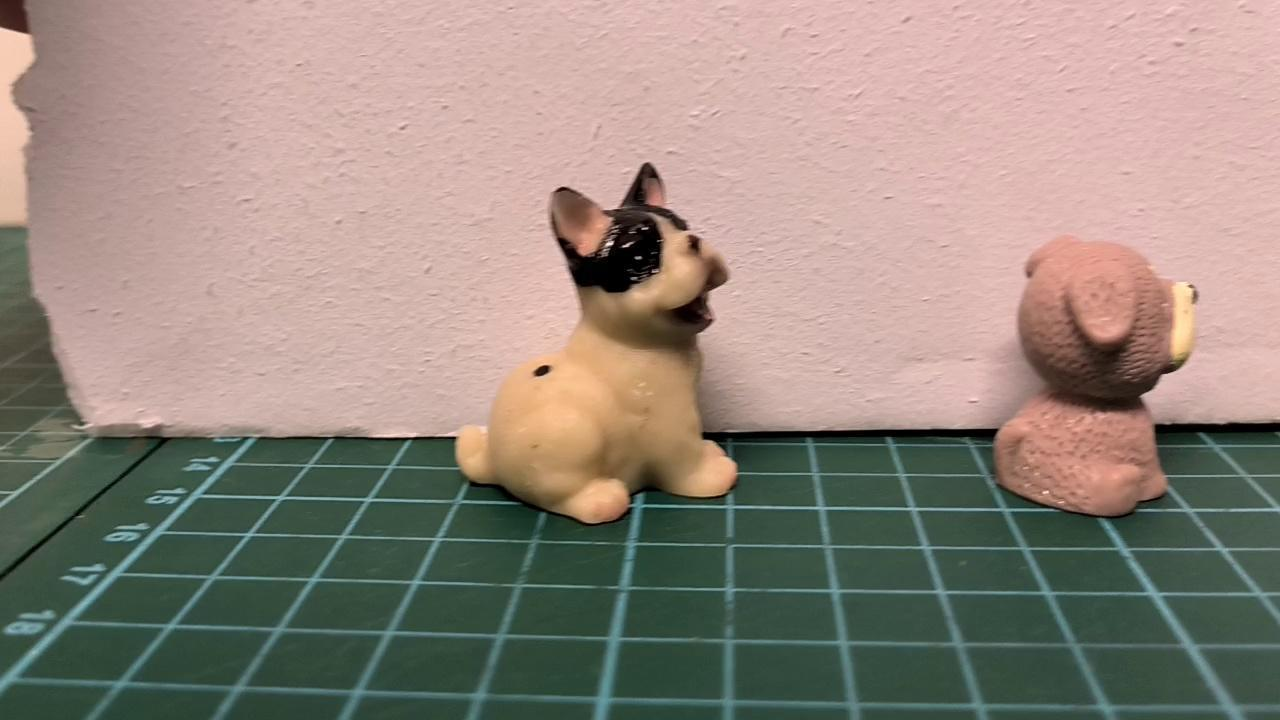pet: (456, 159, 739, 526), (989, 233, 1197, 519)
